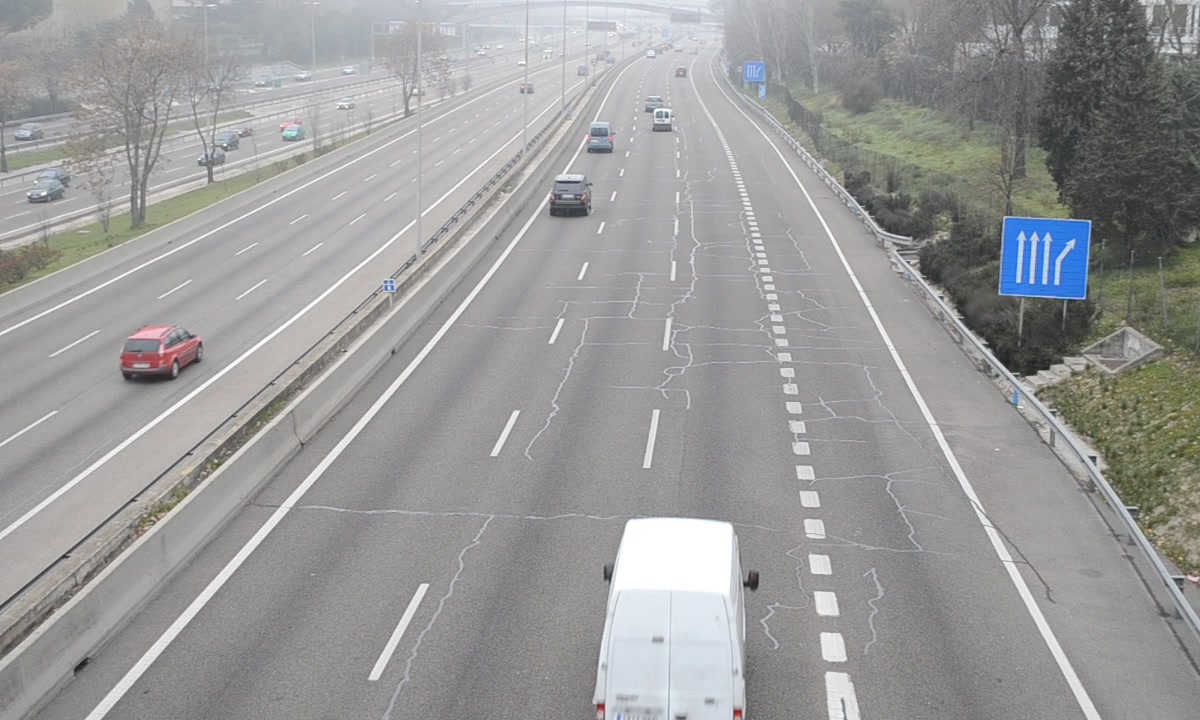car: (549, 175, 591, 215)
van: (597, 516, 747, 720), (587, 121, 610, 152)
